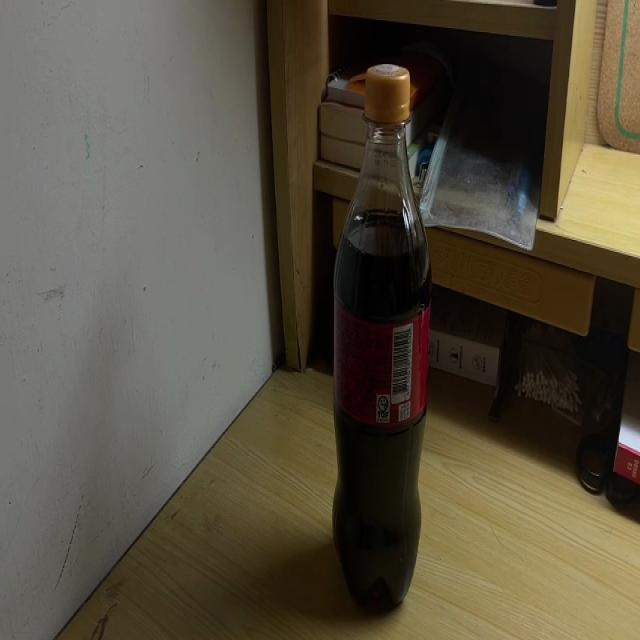Coca-Cola: (332, 64, 430, 615)
